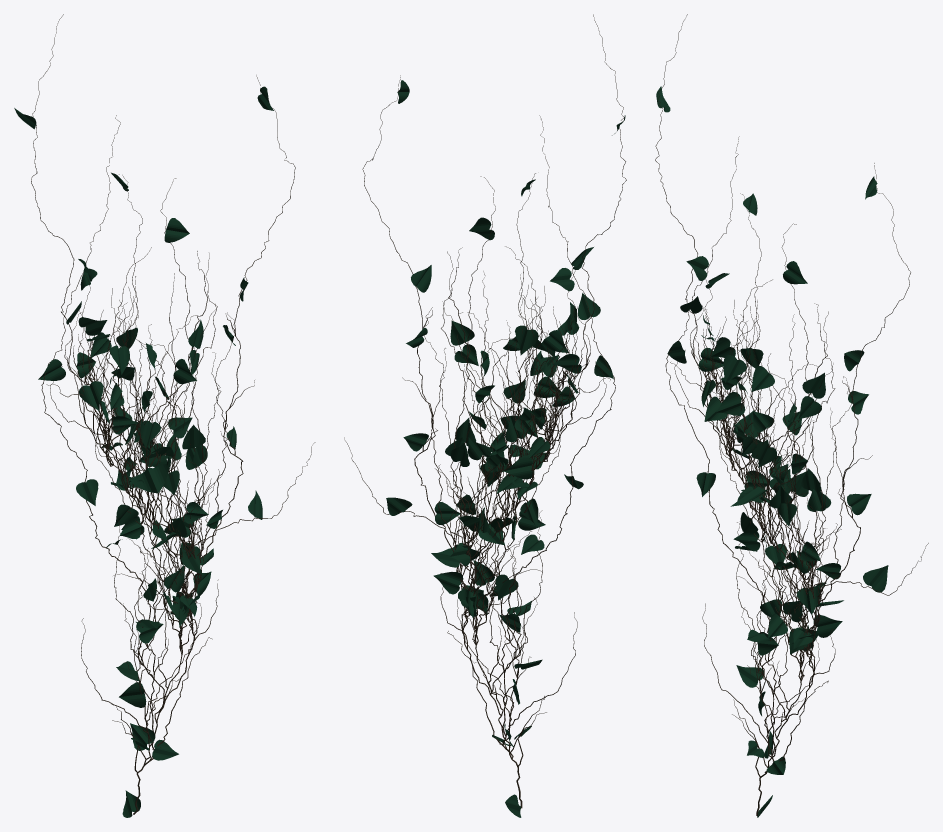
The model's file is IVY.fbx.
3 renders of one model, left to right at view 1: azimuth 30°, elevation 25°; view 2: azimuth 150°, elevation 25°; view 3: azimuth 330°, elevation 25°, orthographic. The views are drawn at different scales.
Parts seen in each view (by area): view 1: IVY_Curve, Plane; view 2: IVY_Curve; view 3: IVY_Curve.
Boxes of the visible parts, box(x1,y1,x2,y2) form: IVY_Curve: box(31, 14, 315, 814); Plane: box(131, 464, 168, 493); IVY_Curve: box(344, 14, 626, 808); IVY_Curve: box(655, 14, 928, 815).
Size of the model in its own units: 100 by 272 by 23.79.
